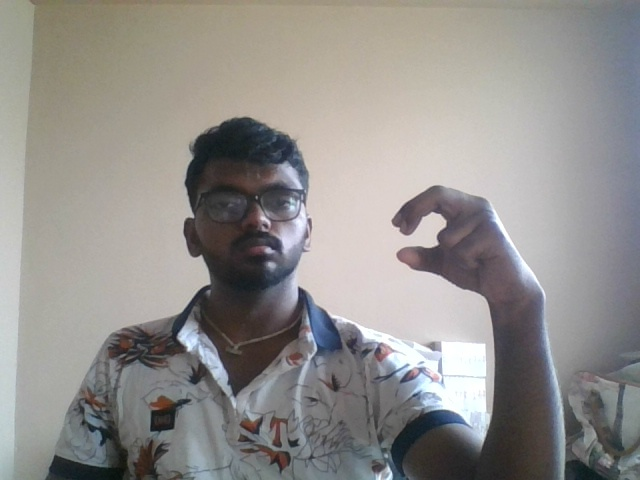No: (373, 149, 548, 339)
